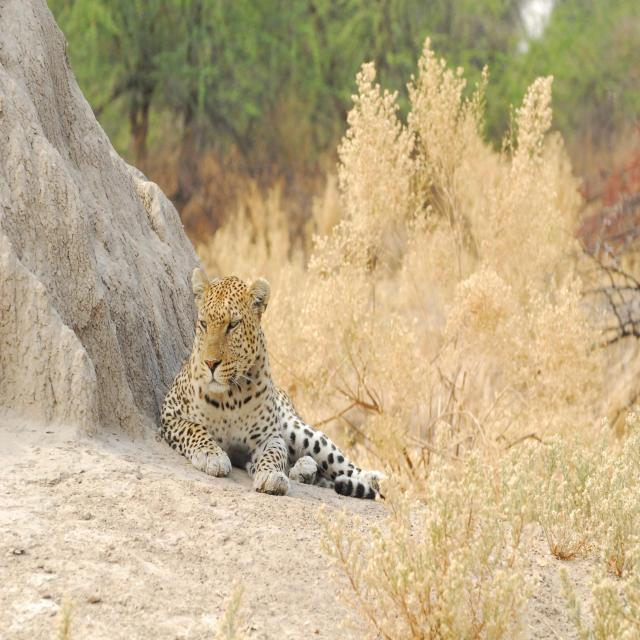Leopard: (161, 261, 397, 497)
